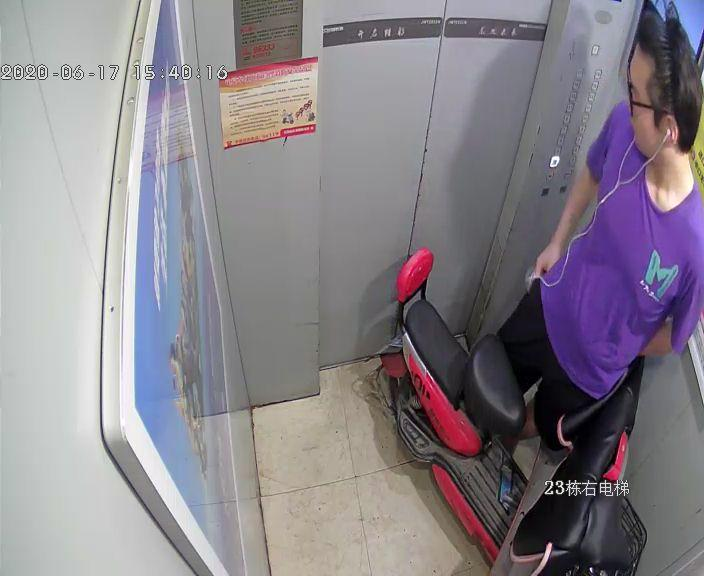Electric-bicycle: (367, 245, 647, 574)
